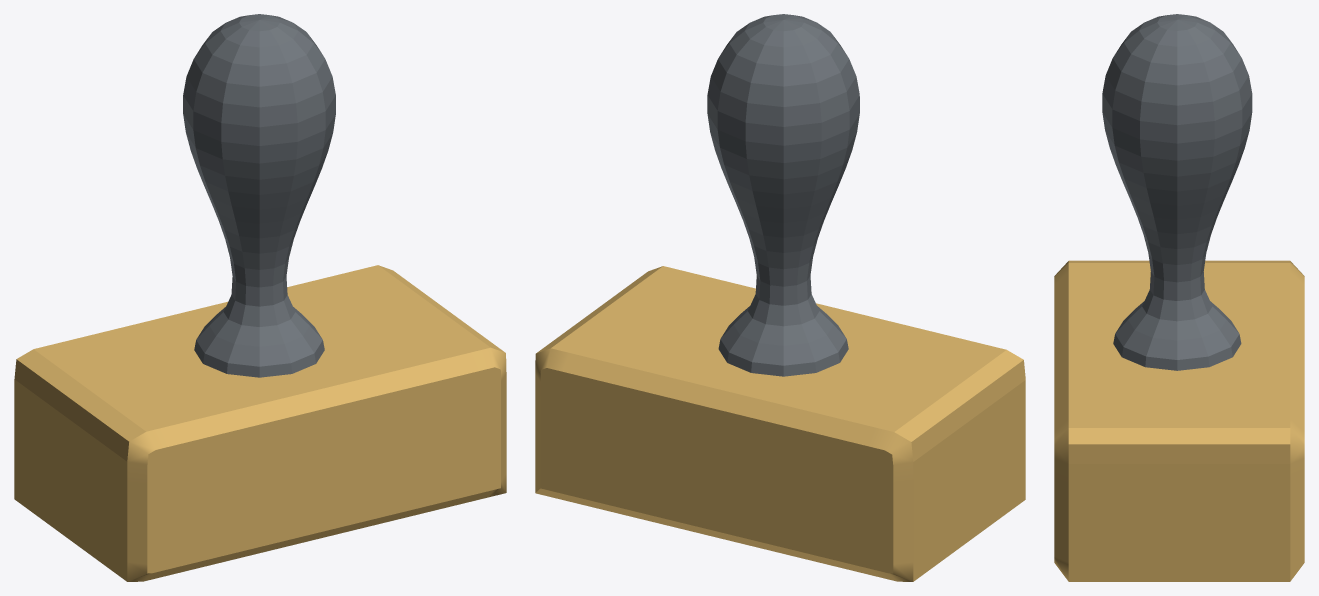
The model's file is RubberStamp.obj.
3 views of the same model, side by side, from view 1: azimuth 30°, elevation 25°; view 2: azimuth 150°, elevation 25°; view 3: azimuth 270°, elevation 25° (orthographic).
Parts seen in each view (by area): view 1: RubberStamp; view 2: RubberStamp; view 3: RubberStamp.
Boxes of the visible parts, bbox=[...] form: RubberStamp: bbox=[14, 14, 506, 581]; RubberStamp: bbox=[535, 14, 1025, 581]; RubberStamp: bbox=[1054, 14, 1304, 581].
Size of the model in its own units: 0.166 by 0.2006 by 0.0968.
